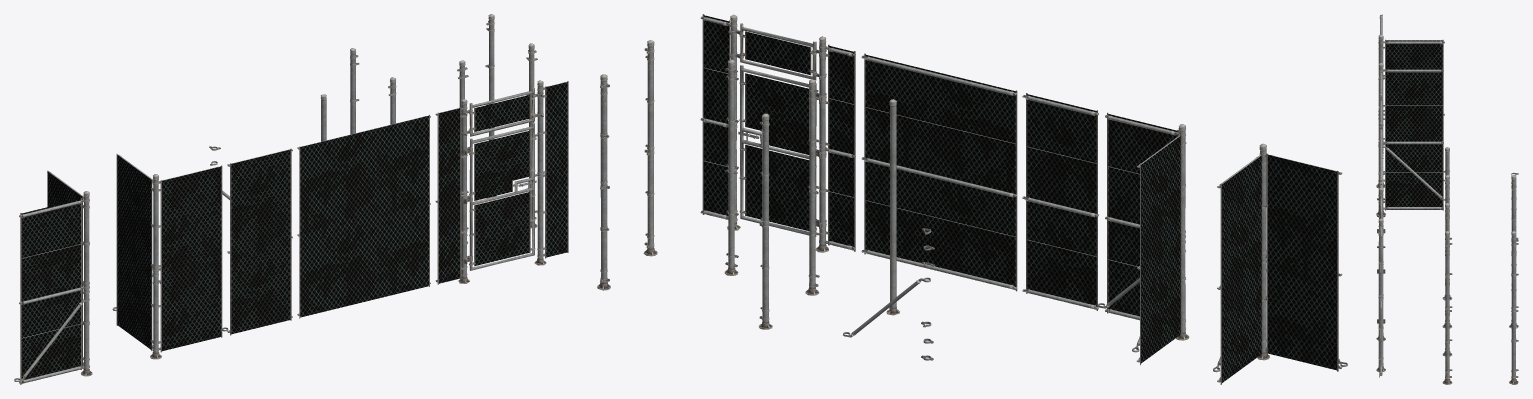
Rendered from modular_chainlink_fence.glb.
The picture shows the model from 3 angles, left to right: view 1: azimuth 30°, elevation 25°; view 2: azimuth 150°, elevation 25°; view 3: azimuth 270°, elevation 25°; orthographic projection. The views are drawn at different scales.
Visible parts, largest first — view 1: modular_chainlink_fence_double, modular_chainlink_fence_corner_outer, modular_chainlink_fence_door_frame, modular_chainlink_fence_corner_inner, modular_chainlink_fence, modular_chainlink_fence_door_gate, modular_chainlink_fence_start_01_corner_01, modular_chainlink_fence_start_01_corner_02, modular_chainlink_fence_end_02; view 2: modular_chainlink_fence_double, modular_chainlink_fence_corner_inner, modular_chainlink_fence_corner_outer, modular_chainlink_fence_door_frame, modular_chainlink_fence, modular_chainlink_fence_door_gate, modular_chainlink_fence_start_01_corner_02, modular_chainlink_post_middle, modular_chainlink_fence_end_01, modular_chainlink_fence_start_01_corner_01, modular_chainlink_fence_end_02, modular_chainlink_fence_post; view 3: modular_chainlink_fence_corner_outer, modular_chainlink_fence_corner_inner, modular_chainlink_fence_door_frame, modular_chainlink_fence_start_01_corner_02, modular_chainlink_fence_start_01_corner_01, modular_chainlink_fence_end_02, modular_chainlink_fence_double, modular_chainlink_post_middle, modular_chainlink_fence_end_01, modular_chainlink_fence_post.
Part boxes in pixels (x1,y1,x2,y2): modular_chainlink_fence_double: (297, 114, 430, 318); modular_chainlink_fence_corner_outer: (112, 154, 228, 359); modular_chainlink_fence_door_frame: (435, 80, 568, 284); modular_chainlink_fence_corner_inner: (14, 170, 92, 384); modular_chainlink_fence: (227, 148, 292, 335); modular_chainlink_fence_door_gate: (469, 123, 535, 270); modular_chainlink_fence_start_01_corner_01: (526, 43, 537, 228); modular_chainlink_fence_start_01_corner_02: (485, 14, 496, 198); modular_chainlink_fence_end_02: (350, 48, 359, 134); modular_chainlink_fence_double: (861, 53, 1017, 291); modular_chainlink_fence_corner_inner: (1213, 143, 1347, 384); modular_chainlink_fence_corner_outer: (1098, 112, 1189, 365); modular_chainlink_fence_door_frame: (700, 14, 855, 252); modular_chainlink_fence: (1022, 93, 1098, 310); modular_chainlink_fence_door_gate: (739, 65, 816, 236); modular_chainlink_fence_start_01_corner_02: (597, 74, 610, 290); modular_chainlink_post_middle: (724, 59, 738, 275); modular_chainlink_fence_end_01: (805, 79, 819, 295); modular_chainlink_fence_start_01_corner_01: (643, 40, 657, 256); modular_chainlink_fence_end_02: (758, 113, 772, 329); modular_chainlink_fence_post: (886, 99, 899, 315); modular_chainlink_fence_corner_outer: (1376, 63, 1449, 233); modular_chainlink_fence_corner_inner: (1376, 14, 1449, 187); modular_chainlink_fence_door_frame: (1376, 182, 1385, 377); modular_chainlink_fence_start_01_corner_02: (1509, 231, 1518, 384); modular_chainlink_fence_start_01_corner_01: (1442, 231, 1452, 384); modular_chainlink_fence_end_02: (1509, 175, 1518, 328); modular_chainlink_fence_double: (1379, 126, 1382, 183); modular_chainlink_post_middle: (1442, 203, 1452, 356); modular_chainlink_fence_end_01: (1442, 175, 1451, 328); modular_chainlink_fence_post: (1442, 147, 1452, 300).
Size of the model in its own units: 8.11 by 2.52 by 2.15.
2 materials, 2 textured.
